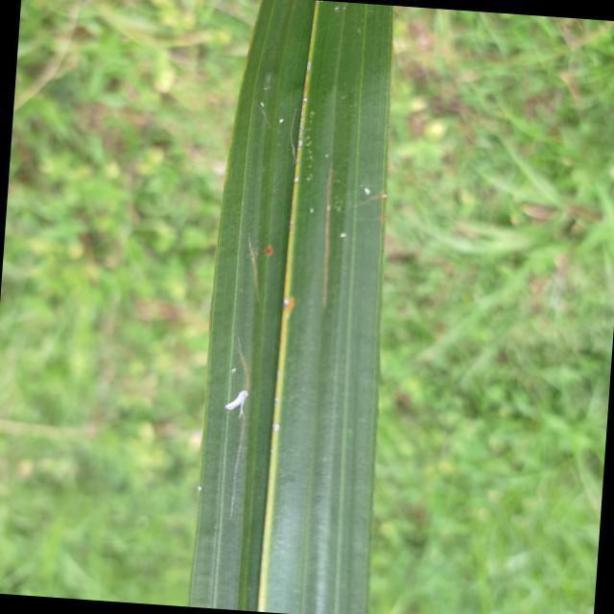Boron: (185, 0, 395, 614)
